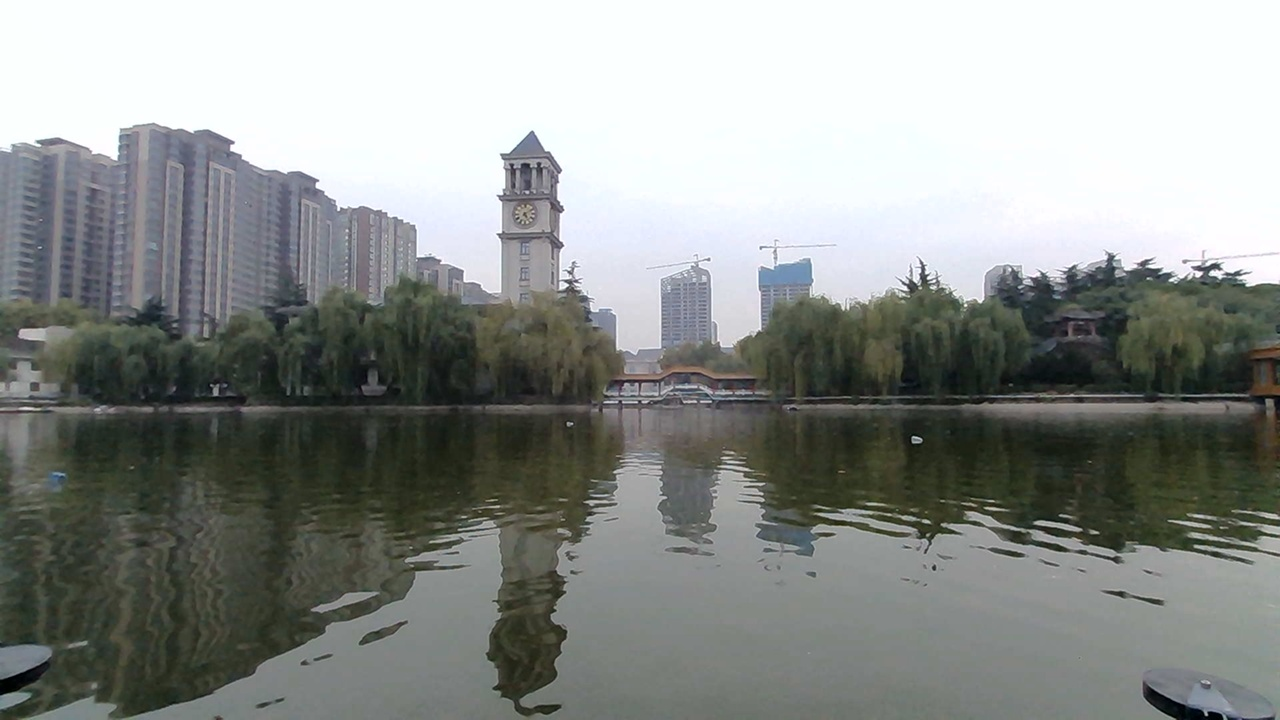bottle: (41, 468, 78, 496), (899, 421, 931, 450)
